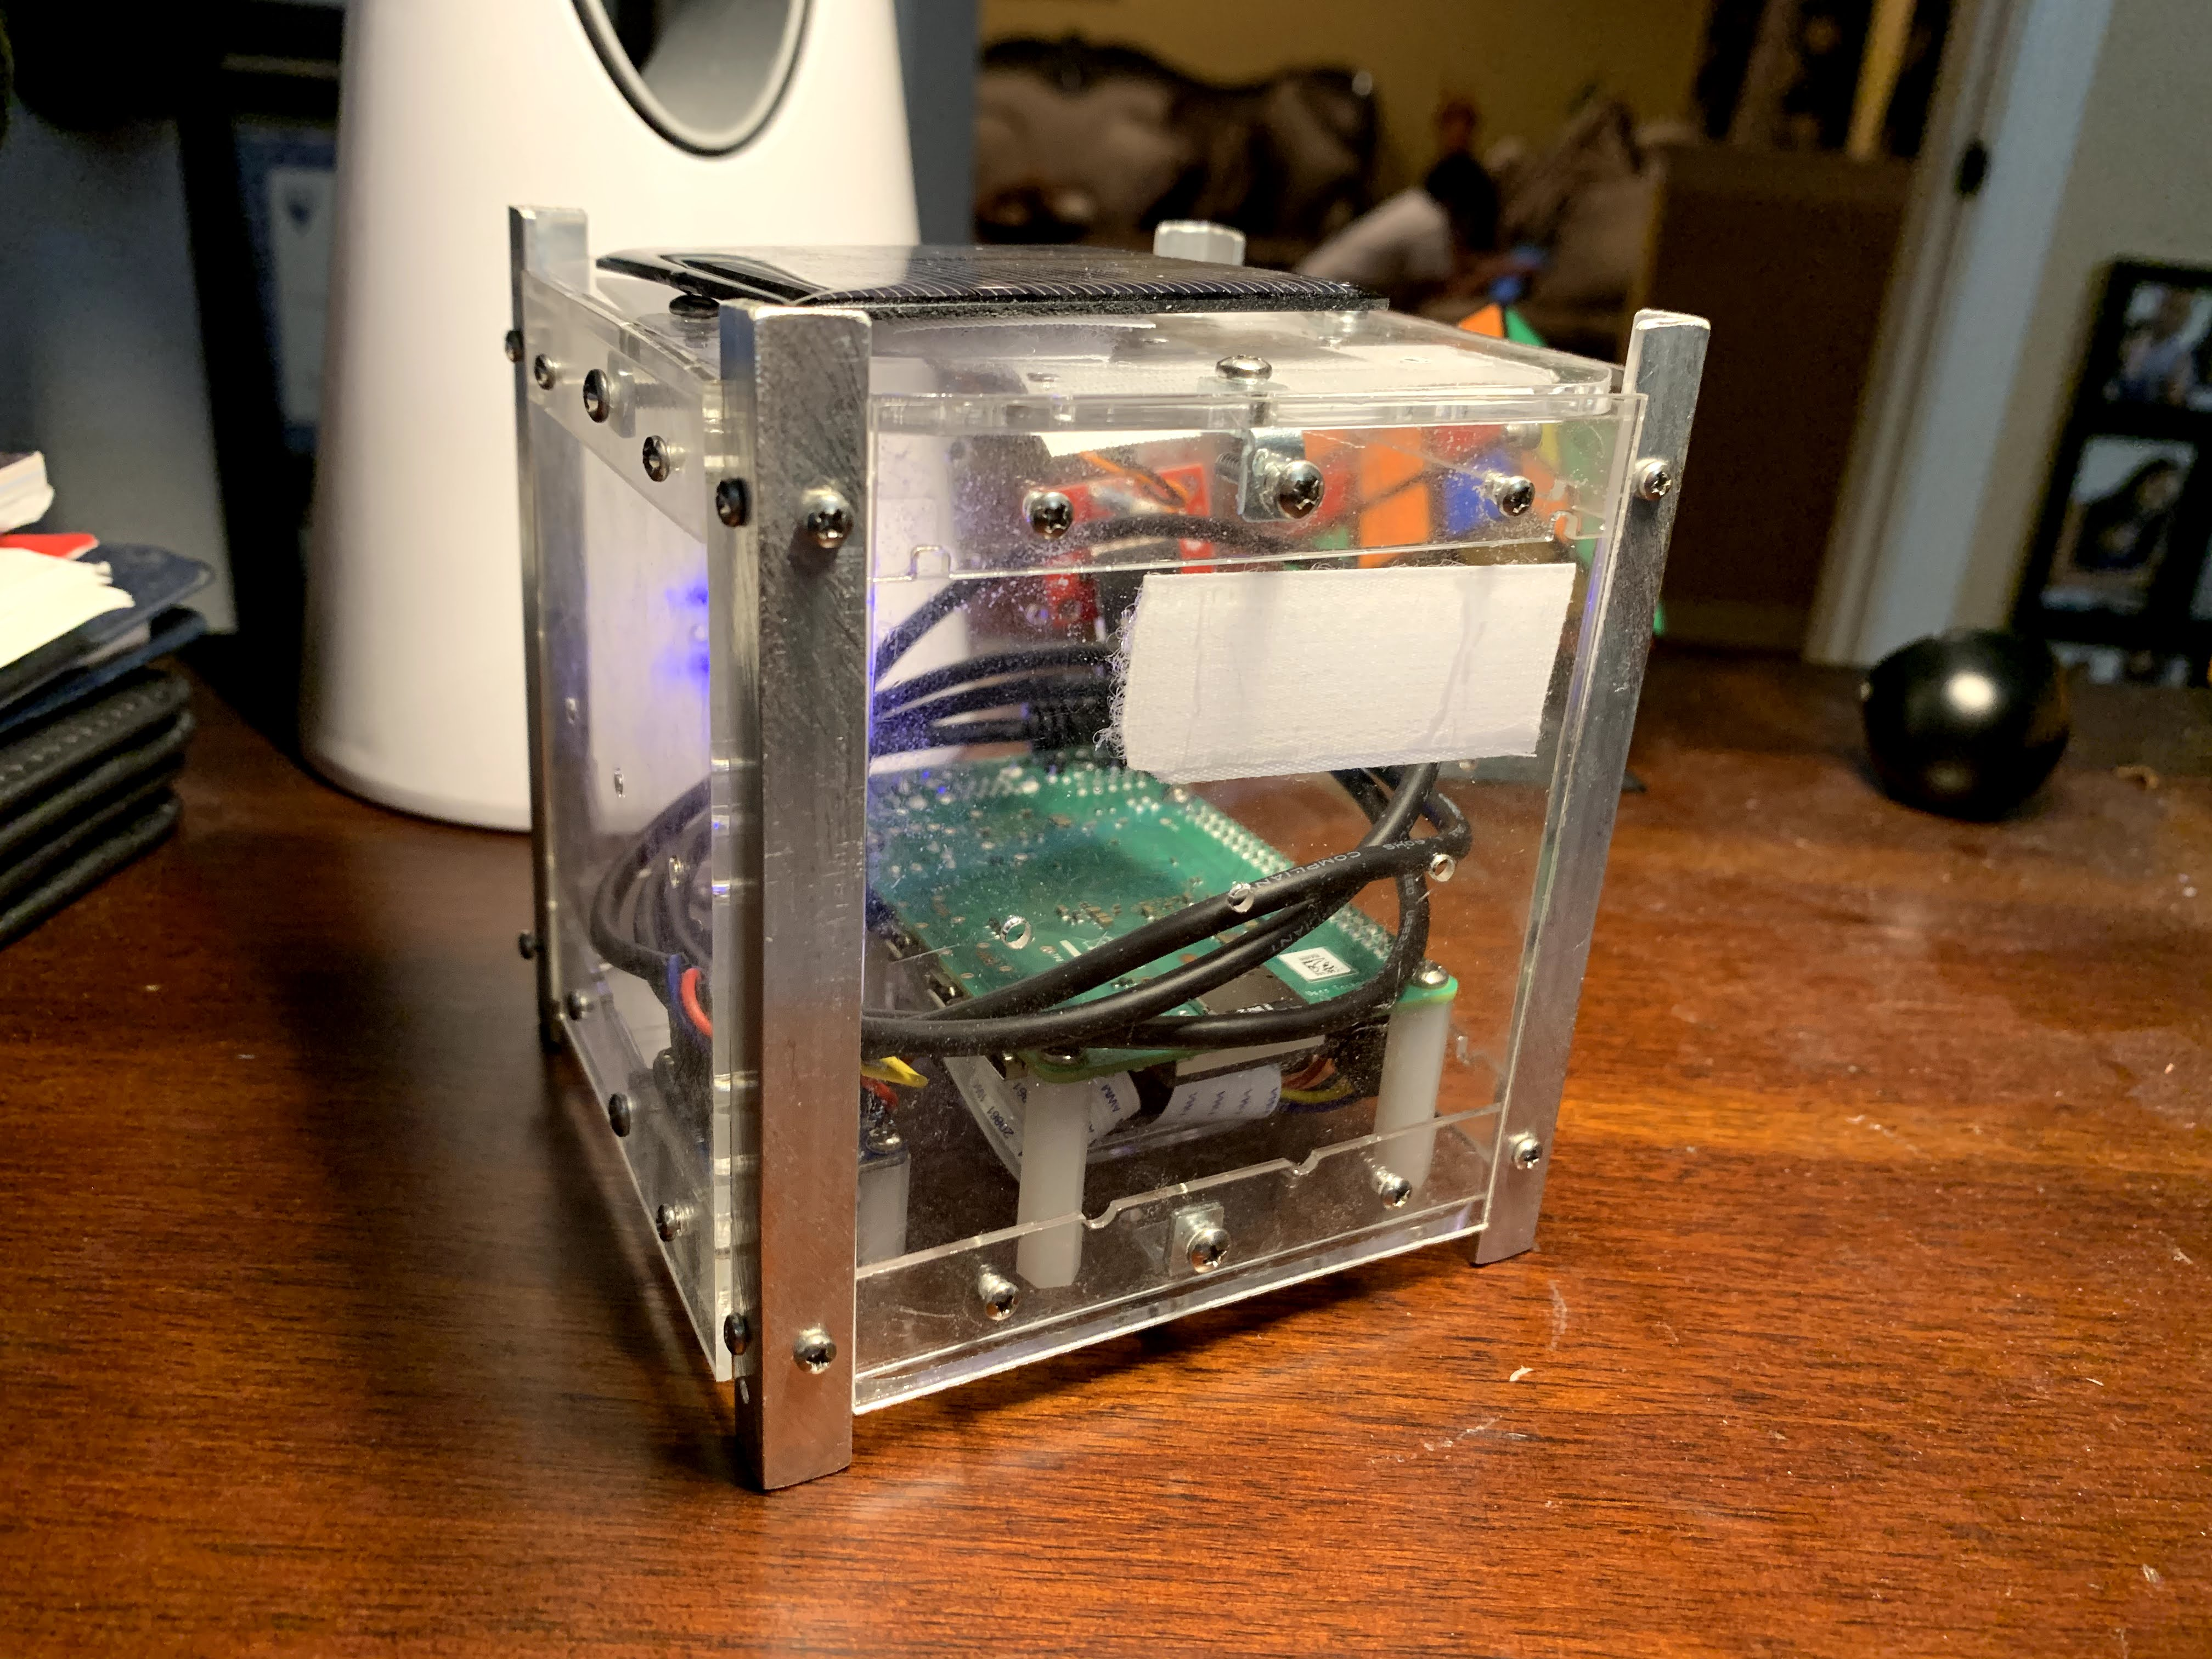Space-debris-cubesat: (444, 166, 1745, 1514)
